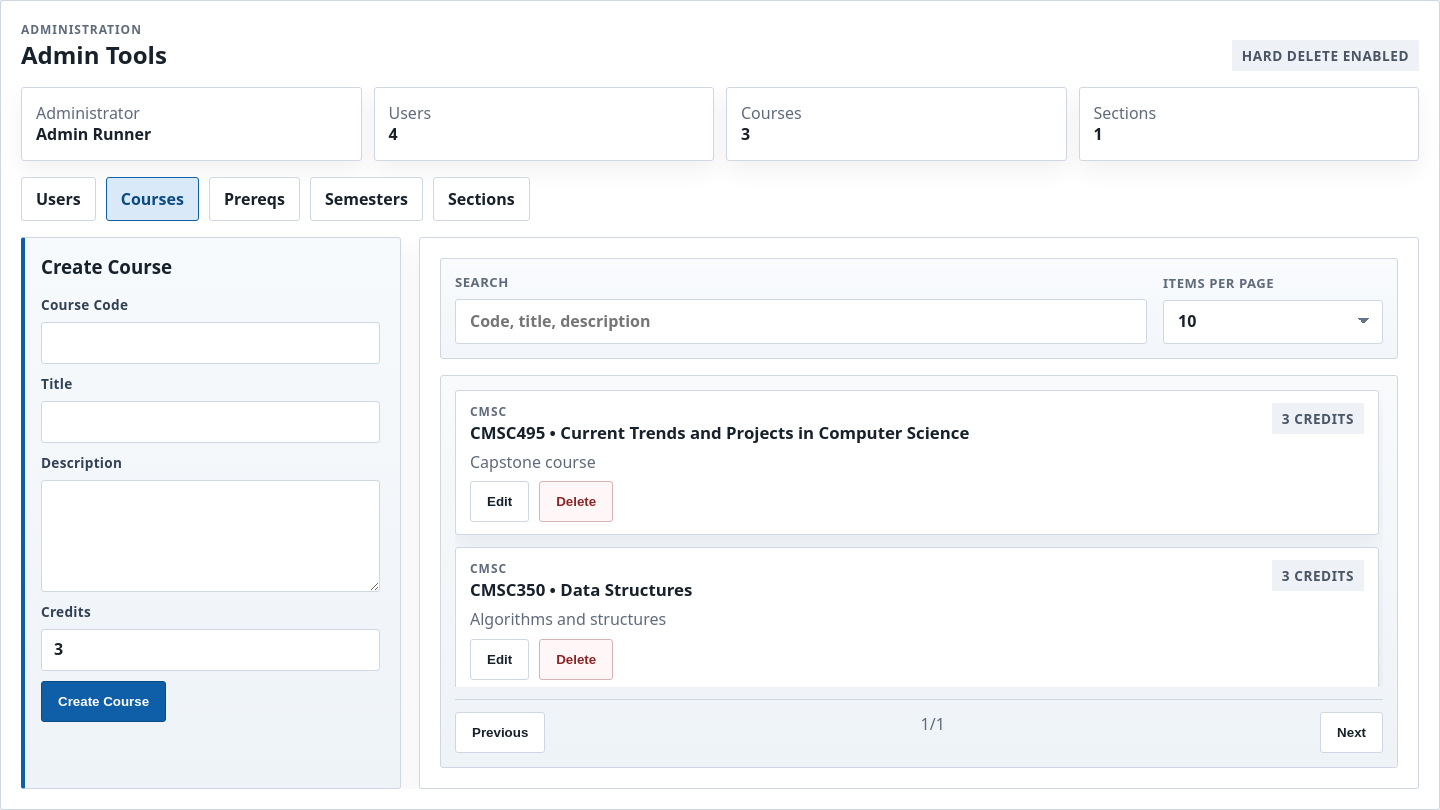
it: AdminConsolePage › shows edited course details immediately after saving
Check: the heading "Create Course" is shown, box [41,254,172,279]
Click the button "Edit" below "Capstone course".
click(500, 502)  # box [470,481,529,522]
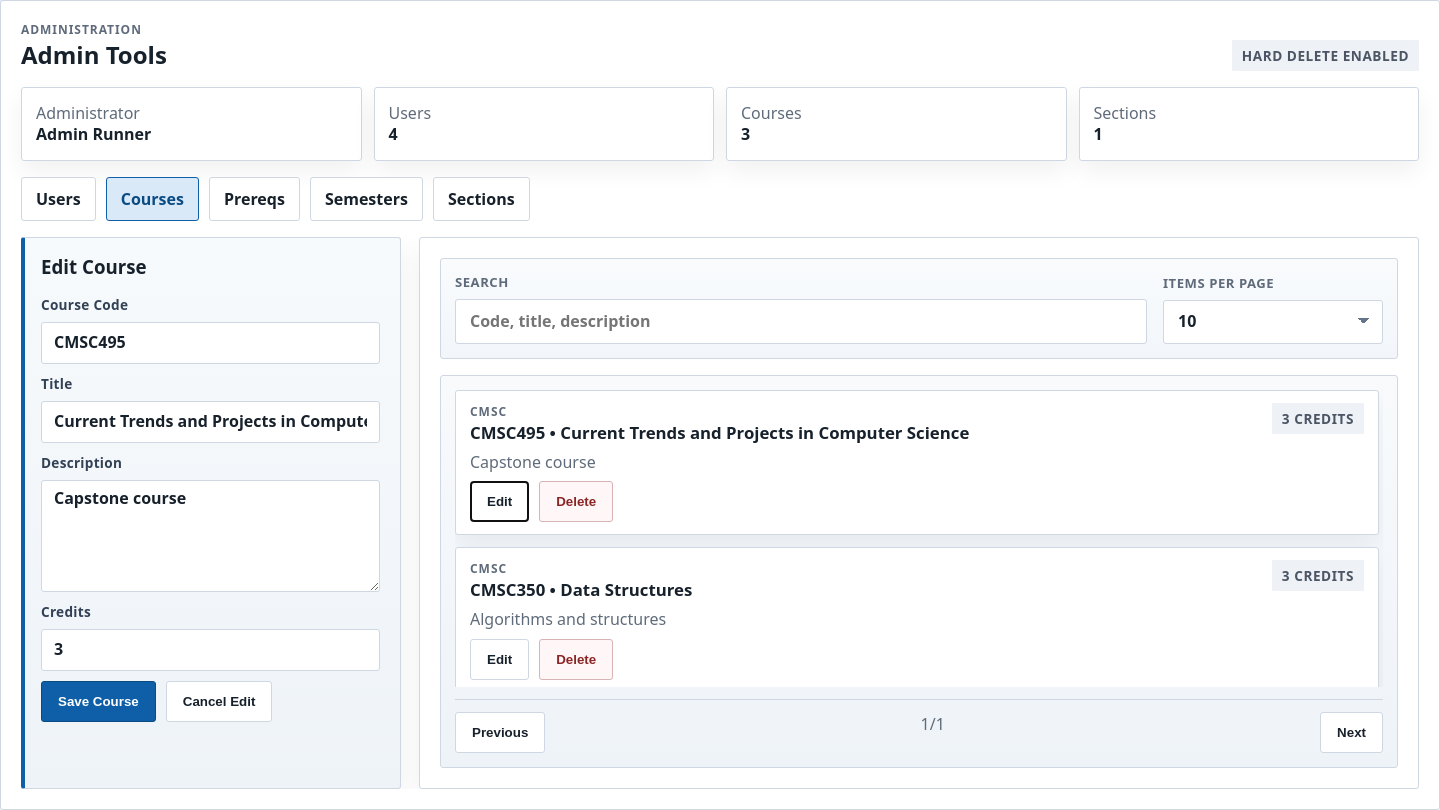
Replace the text in the field labelled "Title" with "Advanced Capstone Studio" at (210, 422), box [41,401,380,443]
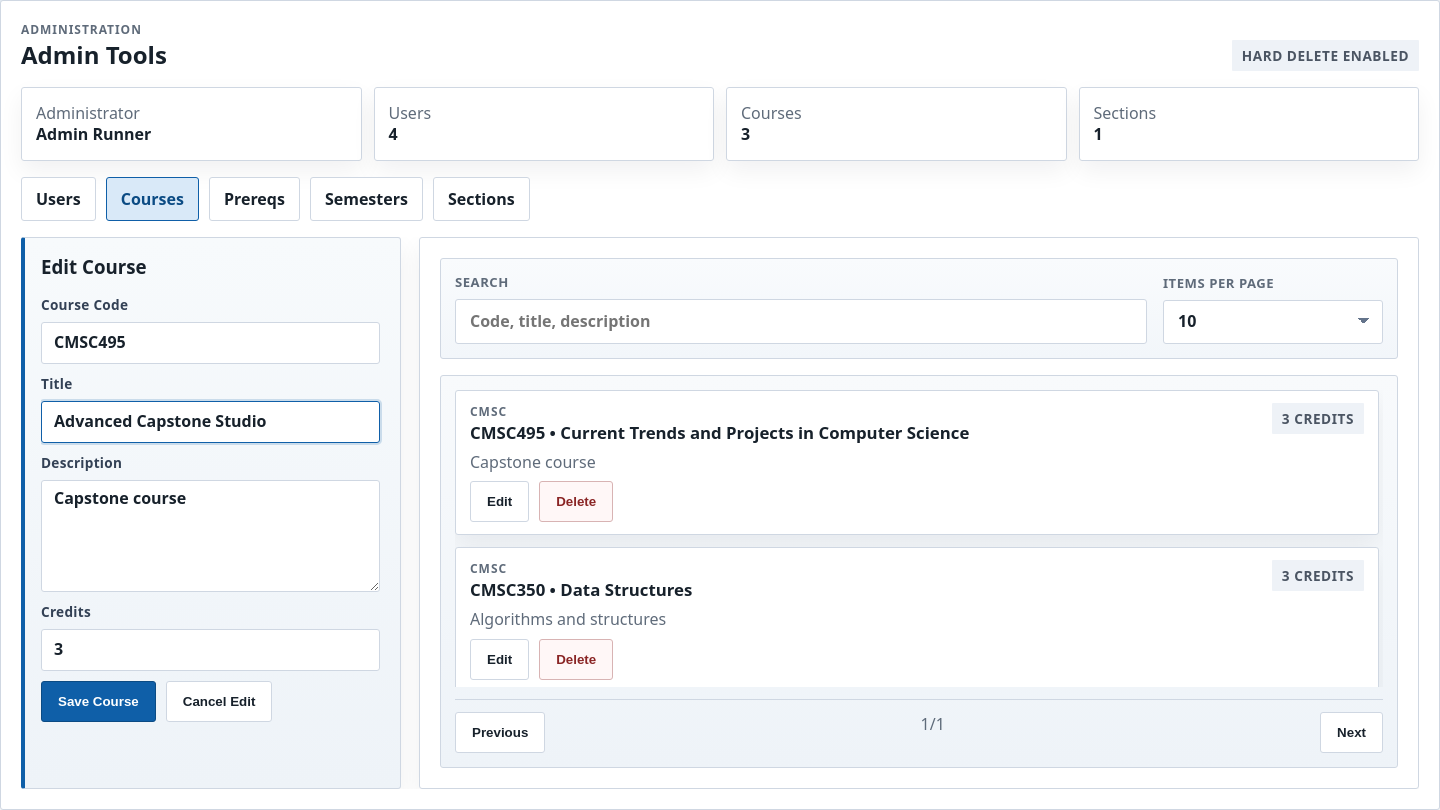
Replace the text in the text box labelled "Description" with "Updated capstone course" at (210, 536), box [41,480,380,592]
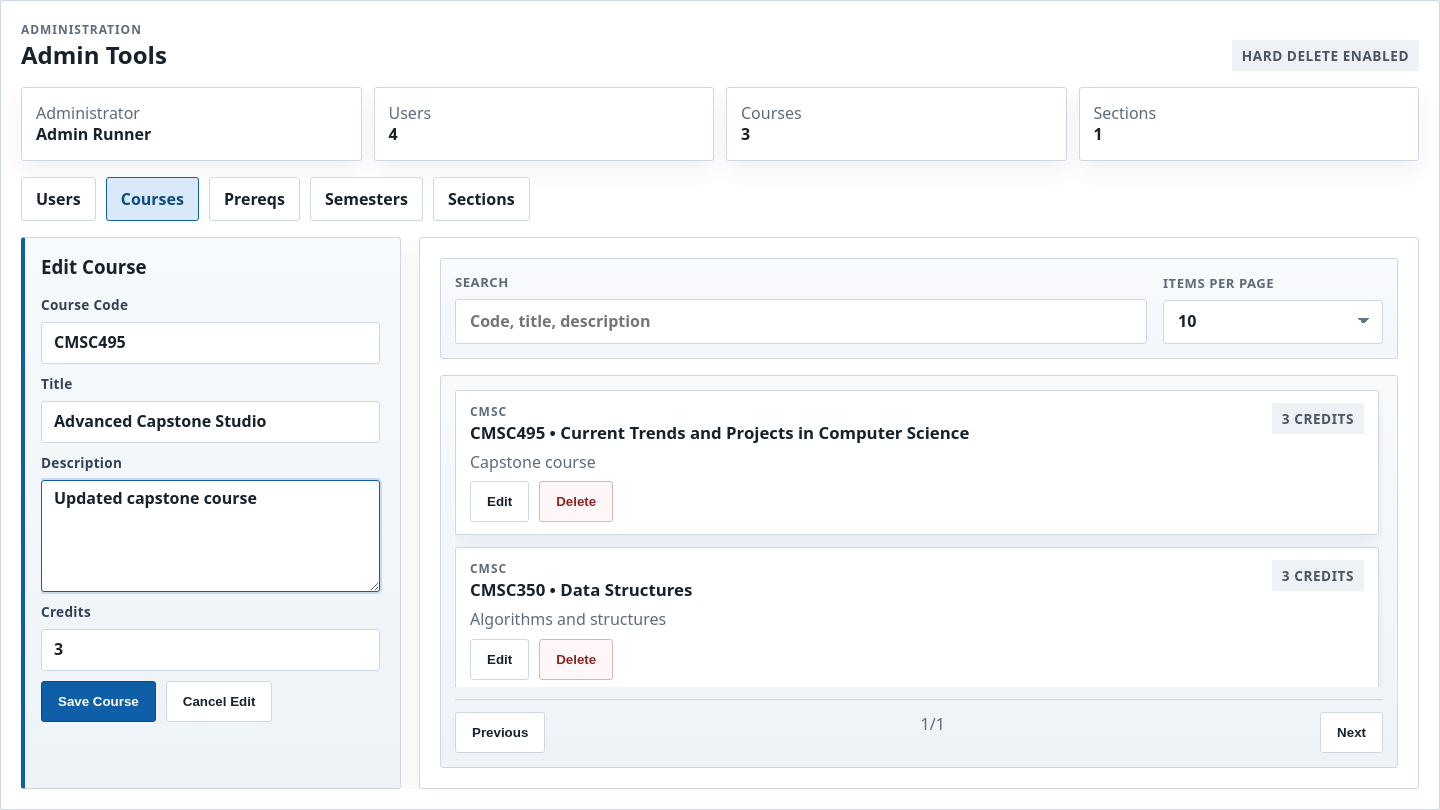
Click the button "Save Course".
click(98, 701)  # box [41,681,156,722]
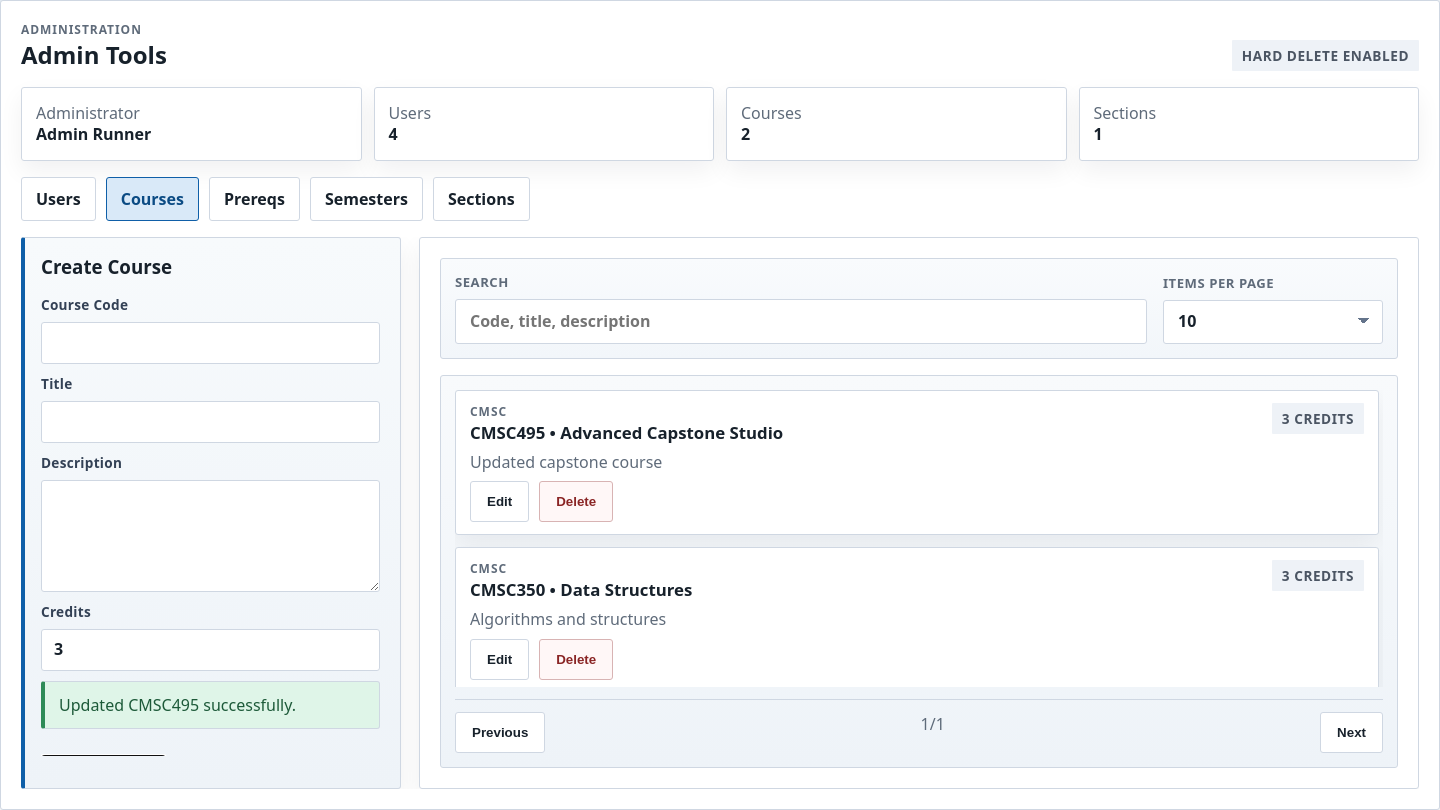
Check: the heading "CMSC495 • Advanced Capstone Studio" is shown, box [470,422,783,444]
